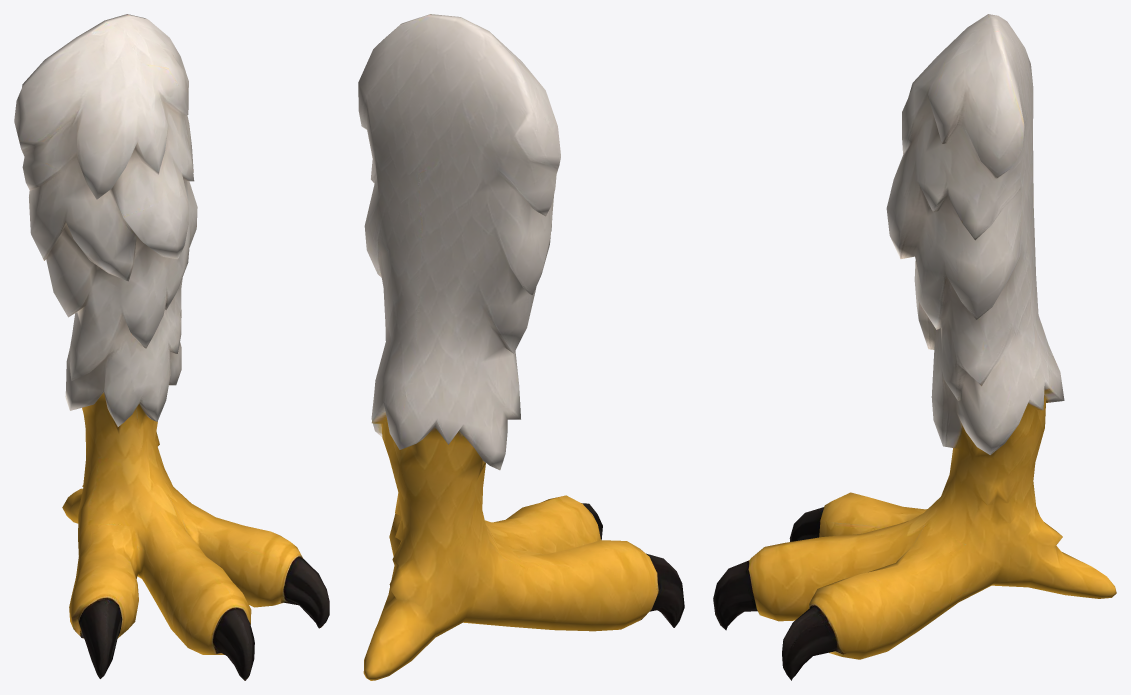
File: griffon_patte_avant.glb
3 renders of one model, left to right at view 1: azimuth 30°, elevation 25°; view 2: azimuth 150°, elevation 25°; view 3: azimuth 270°, elevation 25°, orthographic. The views are drawn at different scales.
Bounding box in the file's own units: 0.4043 × 0.9541 × 0.5761.
Materials: 1 (1 with a texture image).
